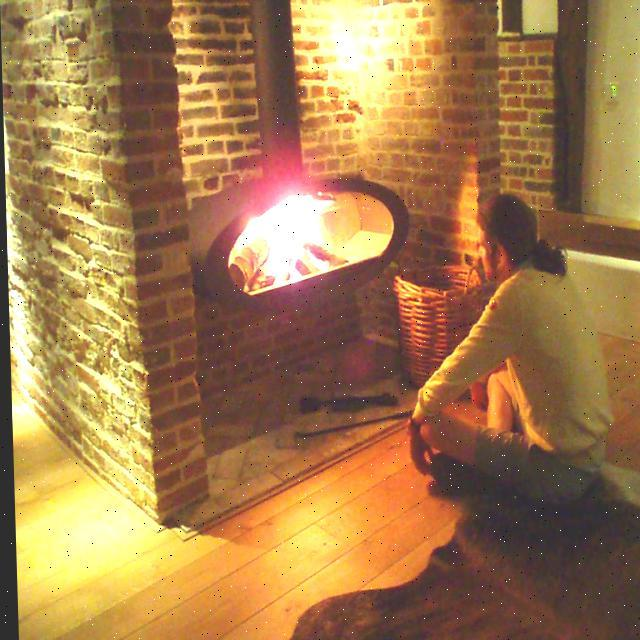Fire: (228, 182, 366, 296)
